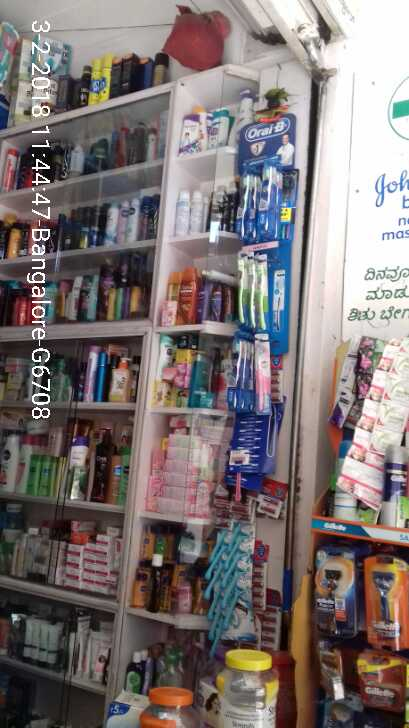oralb: (228, 243, 271, 324), (222, 327, 254, 404), (234, 163, 253, 238), (258, 164, 279, 231)
